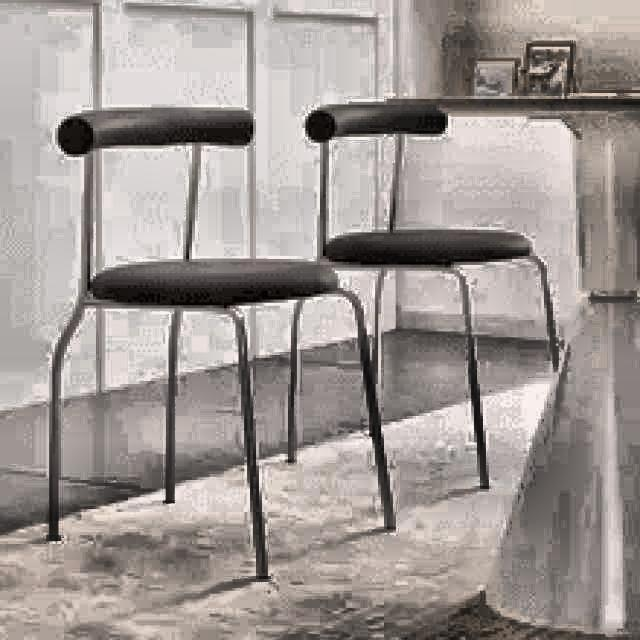cadeira: (36, 105, 399, 588), (276, 98, 568, 487), (41, 104, 343, 302), (292, 105, 580, 268)
